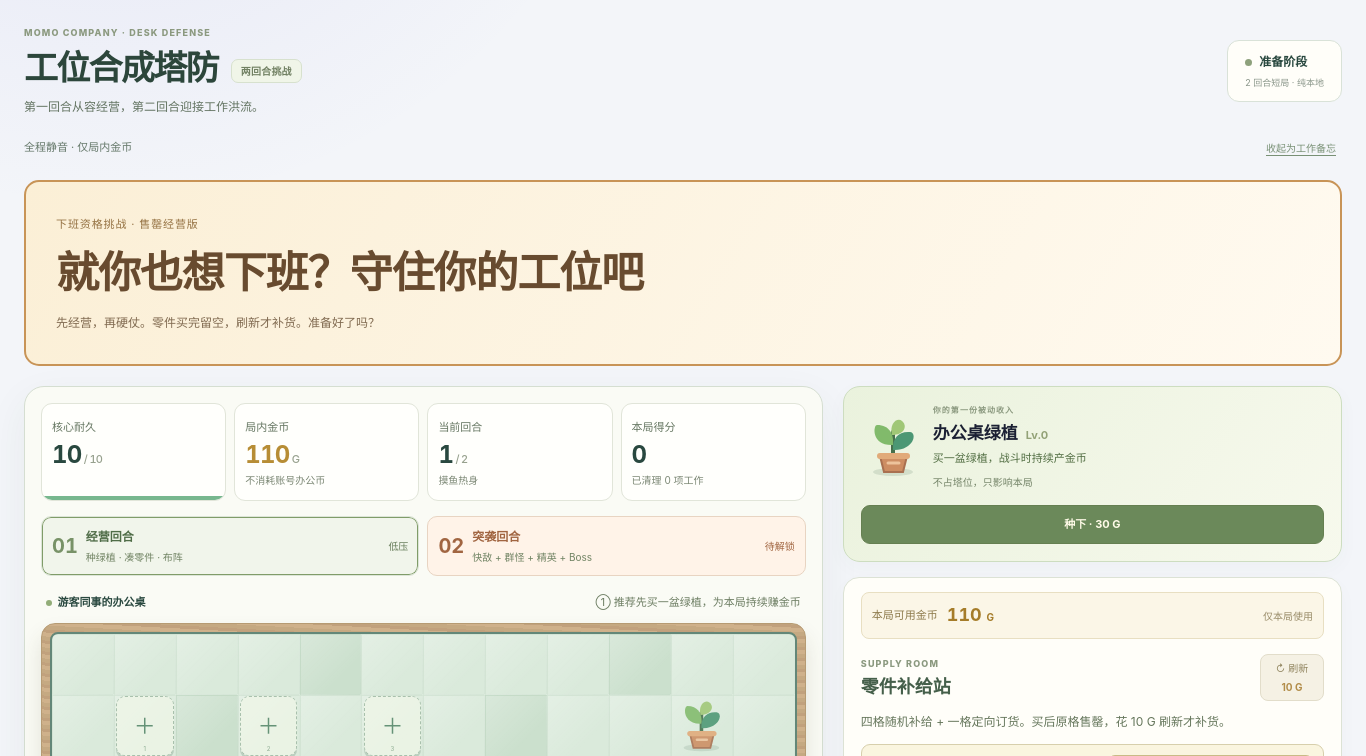
WorkstationTowerDefensePage two-round merging edition › refreshes exactly five shop slots for the displayed local-coin cost
The image size is (1366, 756).
What coordinates should you click on to do the following:
click the button with aria-label "刷新零件商店"
I would click on:
 (1292, 678)
Its box is 1260,654 -> 1324,701.
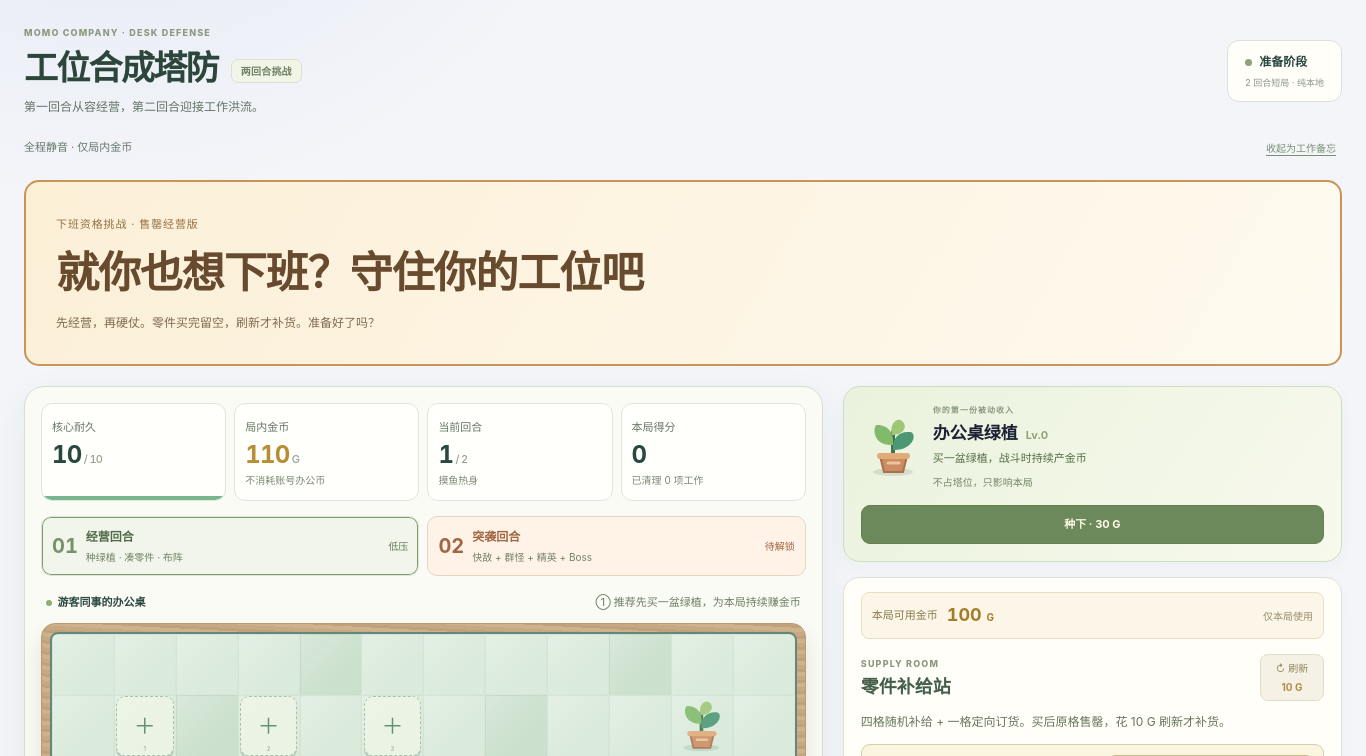
Result: the element named "商店可用局内金币" shows "100" at 947,604 -> 982,625
